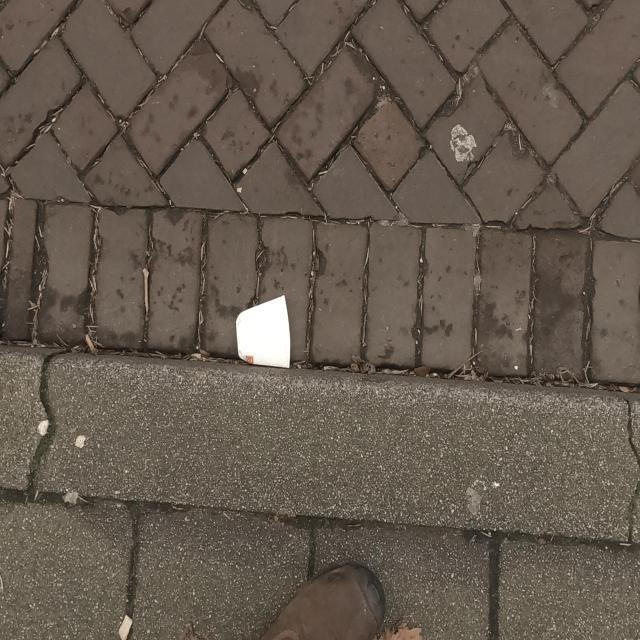Cup: (238, 302, 296, 369)
